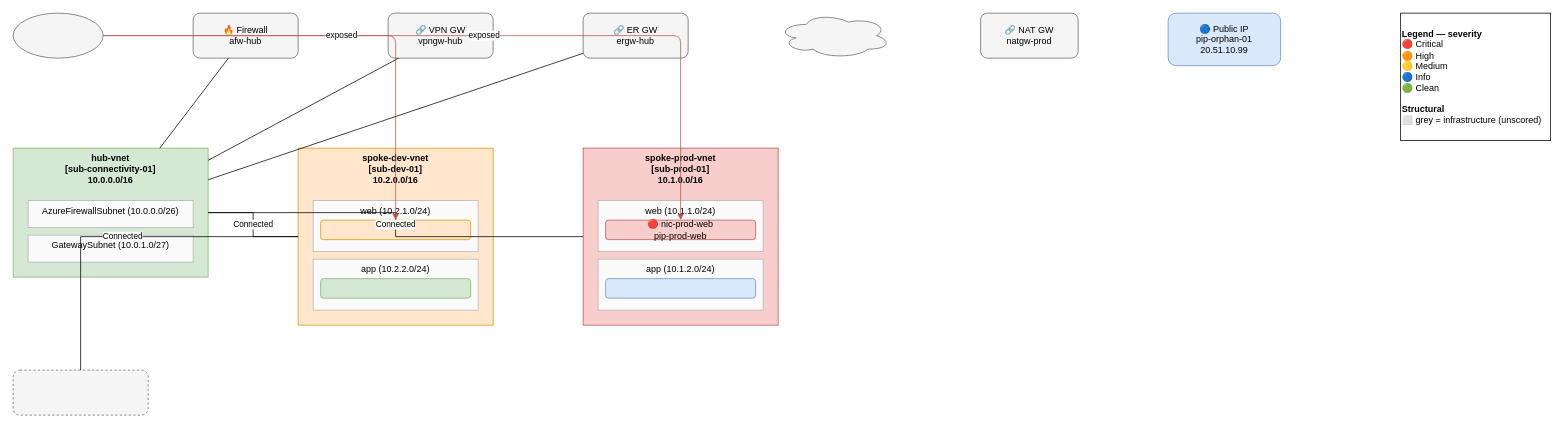
Image size: 1564x428. Some labels were removed from this diagram. Here are the shapes that lost their labels. From the top down, the centre of each, then its label:
the point at 57,35: 🌐 Internet
the point at 834,35: ExpressRoute er-circuit-att
the point at 395,229: 🟠 nic-dev-web pip-dev-web
the point at 395,288: 🟢 nic-dev-clean
the point at 680,288: 🔵 nic-prod-app
the point at 80,392: ↗ remote-shared-vnet (outside scope)
